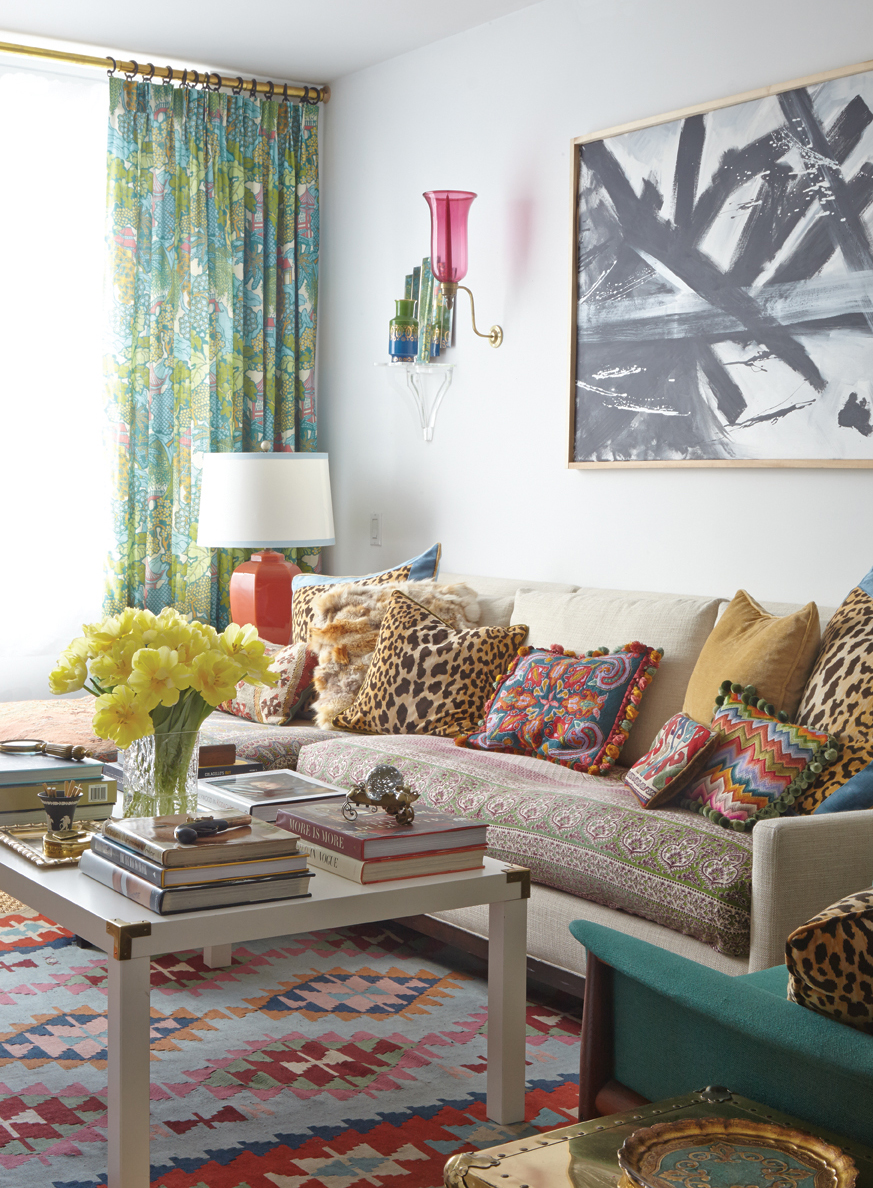hijau: (568, 906, 873, 1122)
kuning: (54, 610, 272, 740)
putih: (1, 835, 524, 1148), (192, 449, 346, 553)
